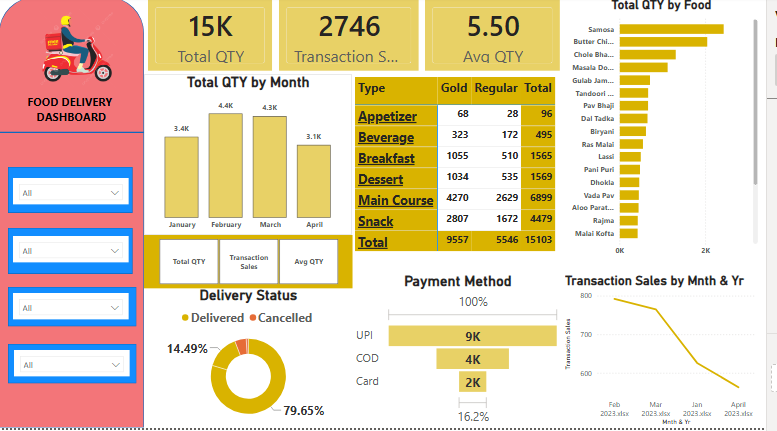

The dashboard page shown, as its layout file describes it:
{"tool":"powerbi","page":{"name":"Page 1","canvas":[1280,720],"ordinal":0},"visuals":[{"type":"shape","box":[0,0,241.6,720.5],"z":0},{"type":"shape","box":[15.3,284.4,207.9,76.6],"z":1000},{"type":"image","box":[32.7,17.4,176.3,139.3],"z":2000},{"type":"textbox","box":[0,156.7,241.6,69.7],"z":3000},{"type":"shape","box":[0,209,243.8,34.8],"z":4000},{"type":"cardVisual","fields":{"Data":["Sales Data.Total Quantity"]},"box":[243.8,0,217.7,128.4],"z":5000},{"type":"cardVisual","fields":{"Data":["Sales Data.Transaction sales"]},"box":[461.5,0,243.8,128.4],"z":6000},{"type":"cardVisual","fields":{"Data":["Sales Data.Average Sales"]},"box":[705.3,0,235.1,128.4],"z":7000},{"type":"columnChart","fields":{"Category":["Sales Data.orderDate.Variation.Date Hierarchy.Year","Sales Data.orderDate.Variation.Date Hierarchy.Quarter","Sales Data.orderDate.Variation.Date Hierarchy.Month","Sales Data.orderDate.Variation.Date Hierarchy.Day"],"Y":["Sales Data.Total Quantity"]},"box":[241.2,127.8,348.3,270],"z":8000},{"type":"pivotTable","fields":{"Columns":["Customer Details.member_Type"],"Rows":["Food_Details.Type"],"Values":["Sales Data.Total Quantity"]},"box":[589.5,127.8,350.4,313.3],"z":9000},{"type":"clusteredBarChart","fields":{"Category":["Food_Details.Food"],"Y":["Sales Data.Total Quantity"]},"box":[940.4,0,330.9,441.9],"z":10000},{"type":"donutChart","title":"Delivery Status","fields":{"Category":["Sales Data.deliver_status"],"Y":["Sales Data.Total Quantity","Sales Data.Transaction sales","Sales Data.Average Sales"]},"box":[241.2,484.4,348.3,235],"z":11000},{"type":"funnel","title":"Payment Method","fields":{"Category":["Sales Data.payment_method"],"Y":["Sales Data.Total Quantity"]},"box":[590,461,350,259],"z":12000},{"type":"lineChart","fields":{"Category":["Sales Data.Month_Yr"],"Y":["Sales Data.Transaction sales"]},"box":[940,461,331,259],"z":13000},{"type":"slicer","fields":{"Values":["Custome Calander.Month Name"]},"box":[24.1,301.9,192.5,43.8],"z":14000},{"type":"shape","box":[15.3,385.1,207.9,76.6],"z":15000},{"type":"shape","box":[15.3,483.6,214.4,65.6],"z":16000},{"type":"slicer","fields":{"Values":["Resturant_Details.Resturant_type"]},"box":[24.1,494.5,192.5,43.8],"z":17000},{"type":"slicer","fields":{"Values":["Customer Details.member_Type"]},"box":[24.1,398.2,192.5,43.8],"z":18000},{"type":"slicer","fields":{"Values":["Matrics.Matrics"]},"box":[241.2,397.8,348.3,88.6],"z":19000}]}

Visuals, with their boxes in screenshot pixels (x1, y1, x2, y2), scaled from the page's 1280x720 canvas onto the 777x431 screenshot:
shape: {"left": 0, "top": 0, "right": 147, "bottom": 430}
shape: {"left": 9, "top": 170, "right": 135, "bottom": 216}
image: {"left": 20, "top": 10, "right": 127, "bottom": 94}
textbox: {"left": 0, "top": 94, "right": 147, "bottom": 136}
shape: {"left": 0, "top": 125, "right": 148, "bottom": 146}
cardVisual - Sales Data.Total Quantity: {"left": 148, "top": 0, "right": 280, "bottom": 77}
cardVisual - Sales Data.Transaction sales: {"left": 280, "top": 0, "right": 428, "bottom": 77}
cardVisual - Sales Data.Average Sales: {"left": 428, "top": 0, "right": 571, "bottom": 77}
columnChart - Sales Data.orderDate.Variation.Date Hierarchy.Year x Sales Data.orderDate.Variation.Date Hierarchy.Quarter: {"left": 146, "top": 77, "right": 358, "bottom": 238}
pivotTable - Customer Details.member_Type x Food_Details.Type: {"left": 358, "top": 77, "right": 571, "bottom": 264}
clusteredBarChart - Food_Details.Food x Sales Data.Total Quantity: {"left": 571, "top": 0, "right": 772, "bottom": 265}
"Delivery Status" donutChart: {"left": 146, "top": 290, "right": 358, "bottom": 430}
"Payment Method" funnel: {"left": 358, "top": 276, "right": 571, "bottom": 430}
lineChart - Sales Data.Month_Yr x Sales Data.Transaction sales: {"left": 571, "top": 276, "right": 772, "bottom": 430}
slicer - Custome Calander.Month Name: {"left": 15, "top": 181, "right": 131, "bottom": 207}
shape: {"left": 9, "top": 231, "right": 135, "bottom": 276}
shape: {"left": 9, "top": 289, "right": 139, "bottom": 329}
slicer - Resturant_Details.Resturant_type: {"left": 15, "top": 296, "right": 131, "bottom": 322}
slicer - Customer Details.member_Type: {"left": 15, "top": 238, "right": 131, "bottom": 265}
slicer - Matrics.Matrics: {"left": 146, "top": 238, "right": 358, "bottom": 291}
